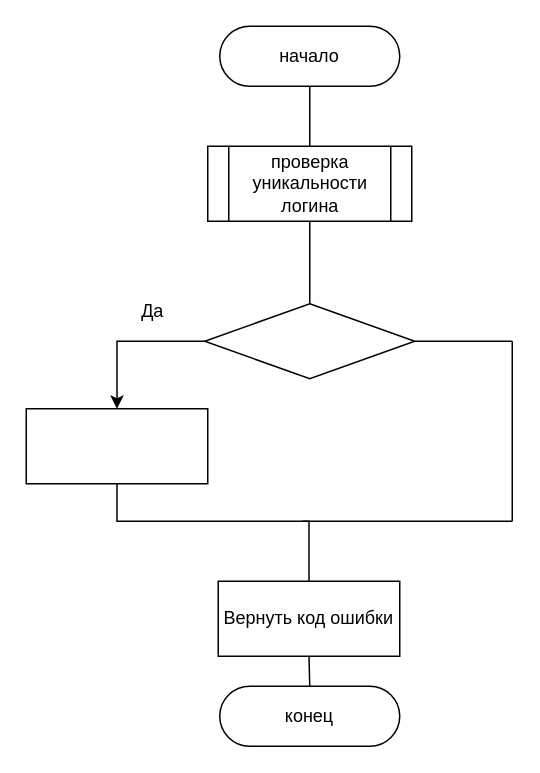
This 540x773 diagram has some shape labels left out. The centre of each missing label's shape, as x and y in pixels:
Добавить пользователя: [116,445]
Логин уникальный: [309,340]
